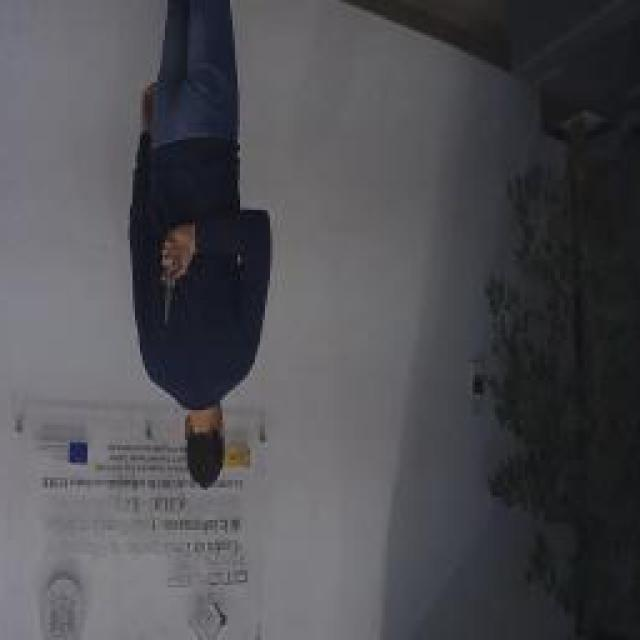knife: (160, 226, 180, 330)
